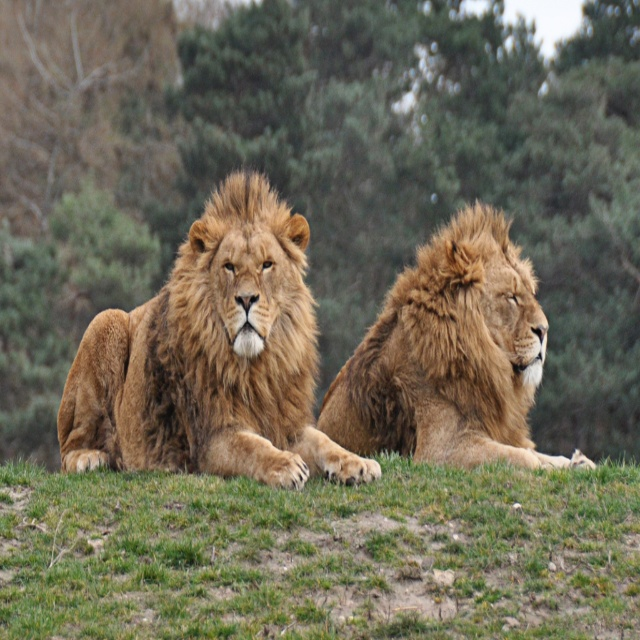Lion: (57, 156, 381, 491), (317, 197, 596, 472)
